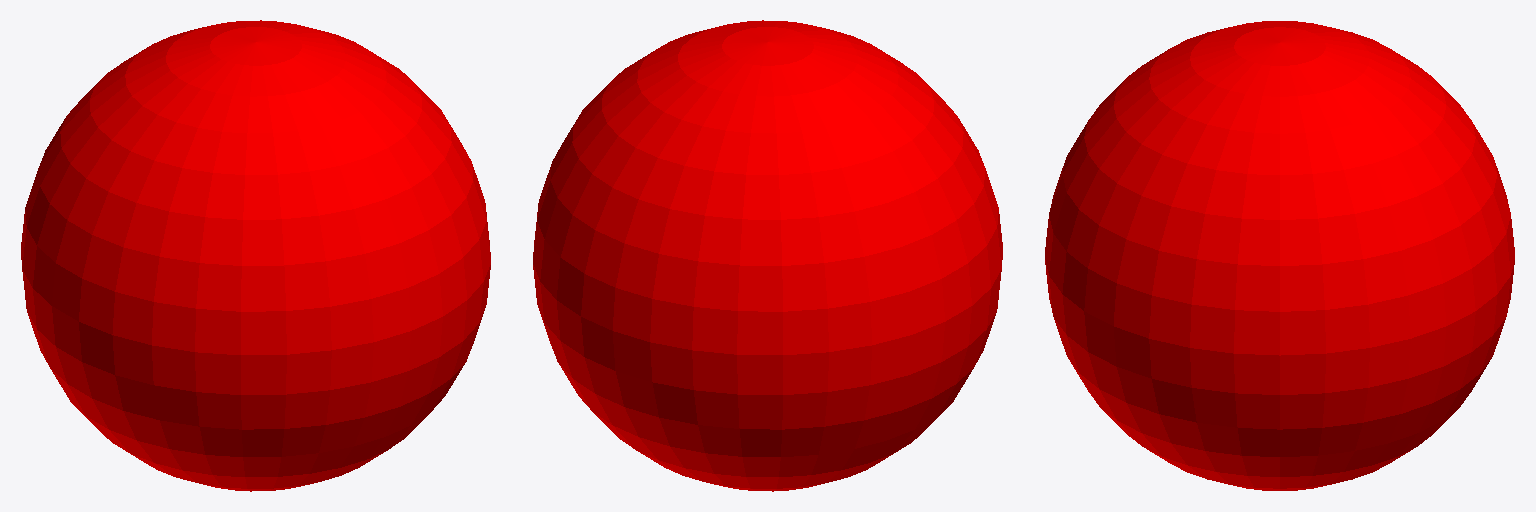
robot.urdf — iiwa14:
<?xml version="1.0" ?>
<!-- =================================================================================== -->
<!-- |    This document was autogenerated by xacro from iiwa14.urdf.xacro              | -->
<!-- |    EDITING THIS FILE BY HAND IS NOT RECOMMENDED                                 | -->
<!-- =================================================================================== -->
<!--|
    Copyright (C) 2019-2022 [author] and Systems Laboratory, EPFL, Switzerland
    Authors:  [author] (maintainer)
              [author]
              [author]
    email:    [email redacted]
              [email redacted]
              [email redacted]
    Other contributors:
              [author] ([email redacted])
              [author] ([email redacted])
    website:  lasa.epfl.ch

    This file is part of iiwa_ros.

    iiwa_ros is free software: you can redistribute it and/or modify
    it under the terms of the GNU General Public License as published by
    the Free Software Foundation, either version 3 of the License, or
    (at your option) any later version.

    iiwa_ros is distributed in the hope that it will be useful,
    but WITHOUT ANY WARRANTY; without even the implied warranty of
    MERCHANTABILITY or FITNESS FOR A PARTICULAR PURPOSE.  See the
    GNU General Public License for more details.

|-->
<robot name="iiwa14">
  <material name="Black">
    <color rgba="0.0 0.0 0.0 1.0"/>
  </material>
  <material name="Blue">
    <color rgba="0.0 0.0 0.8 1.0"/>
  </material>
  <material name="Green">
    <color rgba="0.0 0.8 0.0 1.0"/>
  </material>
  <material name="Grey">
    <color rgba="0.4 0.4 0.4 1.0"/>
  </material>
  <material name="Orange">
    <color rgba="1.0 0.4235294117647059 0.0392156862745098 1.0"/>
  </material>
  <material name="Brown">
    <color rgba="0.8705882352941177 0.8117647058823529 0.7647058823529411 1.0"/>
  </material>
  <material name="Red">
    <color rgba="0.8 0.0 0.0 1.0"/>
  </material>
  <material name="White">
    <color rgba="1.0 1.0 1.0 1.0"/>
  </material>
  <!-- Fix to world just for testing -->
  <link name="world"/>
  <!--joint between {parent} and link_0-->
  <joint name="world_iiwa_joint" type="fixed">
    <origin rpy="0 0 0" xyz="0 0 0"/>
    <parent link="world"/>
    <child link="base_link"/>
  </joint>
  <link name="base_link">
    <inertial>
      <origin rpy="0 0 0" xyz="-0.1 0 0.07"/>
      <mass value="5"/>
      <inertia ixx="0.05" ixy="0" ixz="0" iyy="0.06" iyz="0" izz="0.03"/>
    </inertial>
    <visual>
      <origin rpy="0 0 0" xyz="0 0 0"/>
      <geometry>
        <mesh filename="../meshes/iiwa14/link_0.stl"/>
      </geometry>
      <material name="Grey"/>
    </visual>
  </link>
  <!-- joint between link_0 and link_1 -->
  <joint name="joint_a1" type="revolute">
    <parent link="base_link"/>
    <child link="iiwa_link_1"/>
    <origin rpy="0 0 0" xyz="0 0 0.1575"/>
    <axis xyz="0 0 1"/>
    <limit effort="320" lower="-2.9670597283903604" upper="2.9670597283903604" velocity="1.4835298641951802"/>
    <safety_controller k_position="100" k_velocity="10" soft_lower_limit="-2.8187067419708423" soft_upper_limit="2.8187067419708423"/>
    <dynamics damping="0.5"/>
  </joint>
  <link name="iiwa_link_1">
    <inertial>
      <origin rpy="0 0 0" xyz="0 -0.03 0.12"/>
      <mass value="4"/>
      <inertia ixx="0.1" ixy="0" ixz="0" iyy="0.09" iyz="0" izz="0.02"/>
    </inertial>
    <visual>
      <origin rpy="0 0 0" xyz="0 0 0"/>
      <geometry>
        <mesh filename="../meshes/iiwa14/link_1.stl"/>
      </geometry>
      <material name="Orange"/>
    </visual>
  </link>
  <!-- joint between link_1 and link_2 -->
  <joint name="joint_a2" type="revolute">
    <parent link="iiwa_link_1"/>
    <child link="iiwa_link_2"/>
    <origin rpy="1.5707963267948966   0 3.141592653589793" xyz="0 0 0.2025"/>
    <axis xyz="0 0 1"/>
    <limit effort="320" lower="-2.0943951023931953" upper="2.0943951023931953" velocity="1.4835298641951802"/>
    <safety_controller k_position="100" k_velocity="10" soft_lower_limit="-1.9896753472735356" soft_upper_limit="1.9896753472735356"/>
    <dynamics damping="0.5"/>
  </joint>
  <link name="iiwa_link_2">
    <inertial>
      <origin rpy="0 0 0" xyz="0.0003 0.059 0.042"/>
      <mass value="4"/>
      <inertia ixx="0.05" ixy="0" ixz="0" iyy="0.018" iyz="0" izz="0.044"/>
    </inertial>
    <visual>
      <origin rpy="0 0 0" xyz="0 0 0"/>
      <geometry>
        <mesh filename="../meshes/iiwa14/link_2.stl"/>
      </geometry>
      <material name="Orange"/>
    </visual>
  </link>
  <!-- joint between link_2 and link_3 -->
  <joint name="joint_a3" type="revolute">
    <parent link="iiwa_link_2"/>
    <child link="iiwa_link_3"/>
    <origin rpy="1.5707963267948966 0 3.141592653589793" xyz="0 0.2045 0"/>
    <axis xyz="0 0 1"/>
    <limit effort="176" lower="-2.9670597283903604" upper="2.9670597283903604" velocity="1.7453292519943295"/>
    <safety_controller k_position="100" k_velocity="10" soft_lower_limit="-2.8187067419708423" soft_upper_limit="2.8187067419708423"/>
    <dynamics damping="0.5"/>
  </joint>
  <link name="iiwa_link_3">
    <inertial>
      <origin rpy="0 0 0" xyz="0 0.03 0.13"/>
      <mass value="3"/>
      <inertia ixx="0.08" ixy="0" ixz="0" iyy="0.075" iyz="0" izz="0.01"/>
    </inertial>
    <visual>
      <origin rpy="0 0 0" xyz="0 0 0"/>
      <geometry>
        <mesh filename="../meshes/iiwa14/link_3.stl"/>
      </geometry>
      <material name="Orange"/>
    </visual>
  </link>
  <!-- joint between link_3 and link_4 -->
  <joint name="joint_a4" type="revolute">
    <parent link="iiwa_link_3"/>
    <child link="iiwa_link_4"/>
    <origin rpy="1.5707963267948966 0 0" xyz="0 0 0.2155"/>
    <axis xyz="0 0 1"/>
    <limit effort="176" lower="-2.0943951023931953" upper="2.0943951023931953" velocity="1.3089969389957472"/>
    <safety_controller k_position="100" k_velocity="10" soft_lower_limit="-1.9896753472735356" soft_upper_limit="1.9896753472735356"/>
    <dynamics damping="0.5"/>
  </joint>
  <link name="iiwa_link_4">
    <inertial>
      <origin rpy="0 0 0" xyz="0 0.067 0.034"/>
      <mass value="2.7"/>
      <inertia ixx="0.03" ixy="0" ixz="0" iyy="0.01" iyz="0" izz="0.029"/>
    </inertial>
    <visual>
      <origin rpy="0 0 0" xyz="0 0 0"/>
      <geometry>
        <mesh filename="../meshes/iiwa14/link_4.stl"/>
      </geometry>
      <material name="Orange"/>
    </visual>
  </link>
  <!-- joint between link_4 and link_5 -->
  <joint name="joint_a5" type="revolute">
    <parent link="iiwa_link_4"/>
    <child link="iiwa_link_5"/>
    <origin rpy="-1.5707963267948966 3.141592653589793 0" xyz="0 0.1845 0"/>
    <axis xyz="0 0 1"/>
    <limit effort="110" lower="-2.9670597283903604" upper="2.9670597283903604" velocity="2.2689280275926285"/>
    <safety_controller k_position="100" k_velocity="10" soft_lower_limit="-2.8187067419708423" soft_upper_limit="2.8187067419708423"/>
    <dynamics damping="0.5"/>
  </joint>
  <link name="iiwa_link_5">
    <inertial>
      <origin rpy="0 0 0" xyz="0.0001 0.021 0.076"/>
      <mass value="1.7"/>
      <inertia ixx="0.02" ixy="0" ixz="0" iyy="0.018" iyz="0" izz="0.005"/>
    </inertial>
    <visual>
      <origin rpy="0 0 0" xyz="0 0 0"/>
      <geometry>
        <mesh filename="../meshes/iiwa14/link_5.stl"/>
      </geometry>
      <material name="Orange"/>
    </visual>
  </link>
  <!-- joint between link_5 and link_6 -->
  <joint name="joint_a6" type="revolute">
    <parent link="iiwa_link_5"/>
    <child link="iiwa_link_6"/>
    <origin rpy="1.5707963267948966 0 0" xyz="0 0 0.2155"/>
    <axis xyz="0 0 1"/>
    <limit effort="40" lower="-2.0943951023931953" upper="2.0943951023931953" velocity="2.356194490192345"/>
    <safety_controller k_position="100" k_velocity="10" soft_lower_limit="-1.9896753472735356" soft_upper_limit="1.9896753472735356"/>
    <dynamics damping="0.5"/>
  </joint>
  <link name="iiwa_link_6">
    <inertial>
      <origin rpy="0 0 0" xyz="0 0.0006 0.0004"/>
      <mass value="1.8"/>
      <inertia ixx="0.005" ixy="0" ixz="0" iyy="0.0036" iyz="0" izz="0.0047"/>
    </inertial>
    <visual>
      <origin rpy="0 0 0" xyz="0 0 0"/>
      <geometry>
        <mesh filename="../meshes/iiwa14/link_6.stl"/>
      </geometry>
      <material name="Orange"/>
    </visual>
  </link>
  <!-- joint between link_6 and link_7 -->
  <joint name="joint_a7" type="revolute">
    <parent link="iiwa_link_6"/>
    <child link="iiwa_link_7"/>
    <origin rpy="-1.5707963267948966 3.141592653589793 0" xyz="0 0.081 0"/>
    <axis xyz="0 0 1"/>
    <limit effort="40" lower="-3.0543261909900763" upper="3.0543261909900763" velocity="2.356194490192345"/>
    <safety_controller k_position="100" k_velocity="10" soft_lower_limit="-2.901609881440573" soft_upper_limit="2.901609881440573"/>
    <dynamics damping="0.5"/>
  </joint>
  <link name="iiwa_link_7">
    <inertial>
      <origin rpy="0 0 0" xyz="0 0 0.02"/>
      <mass value="0.3"/>
      <inertia ixx="0.001" ixy="0" ixz="0" iyy="0.001" iyz="0" izz="0.001"/>
    </inertial>
    <visual>
      <origin rpy="0 0 0" xyz="0 0 0"/>
      <geometry>
        <mesh filename="../meshes/iiwa14/link_7.stl"/>
      </geometry>
      <material name="Grey"/>
    </visual>
  </link>
  <joint name="iiwa_joint_ee" type="fixed">
    <parent link="iiwa_link_7"/>
    <child link="iiwa_link_ee"/>
    <origin rpy="0 0 0" xyz="0 0 0.045"/>
  </joint>
  <link name="iiwa_link_ee">
    <inertial>
      <origin rpy="0 0 0" xyz="0 0 0"/>
      <mass value="1e-6"/>
      <inertia ixx="1" ixy="0" ixz="0" iyy="1" iyz="0" izz="1"/>
    </inertial>
  </link>
  <link name="ball_link">
    <visual>
      <material name="red">
        <color rgba="1 0 0 1"/>
      </material>

      <geometry>
        <sphere radius="0.005"/>
      </geometry>
    </visual>
  </link>
  <joint name="ball_joint" type="fixed">
    <origin rpy="0.0 0.0 0.0" xyz="-6.92119286580406e-05 -0.00018859822675517448 0.03542481345977316" />
    
    <parent link="iiwa_link_ee" />
    <child link="ball_link" />
  </joint>
  <!-- Load Gazebo lib and set the robot namespace -->
</robot>

--- What the picture shows (computed from the rendered views, not written in the file) ---
The picture shows the robot from 3 angles, left to right: view 1: azimuth 30°, elevation 25°; view 2: azimuth 150°, elevation 25°; view 3: azimuth 270°, elevation 25°; orthographic projection.
Robot: iiwa14 — 11 links, 10 joints (7 revolute, 3 fixed); root link world; default pose: all joints at 0.
Links seen in each view (by area): view 1: ball_link; view 2: ball_link; view 3: ball_link.
Boxes of the visible links, x1,y1,x2,y2 form: ball_link: (21, 20, 490, 491); ball_link: (533, 20, 1002, 491); ball_link: (1045, 21, 1514, 490).
Bounding box of the posed robot: 0.01 × 0.01 × 0.01 m (x, y, z).
Meshes: 8 distinct files referenced, 0 mesh visuals loaded (none loaded); not drawn: 8 (reference not matched to a file when rendering).